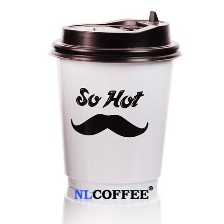paper_cup: (42, 4, 188, 209)
